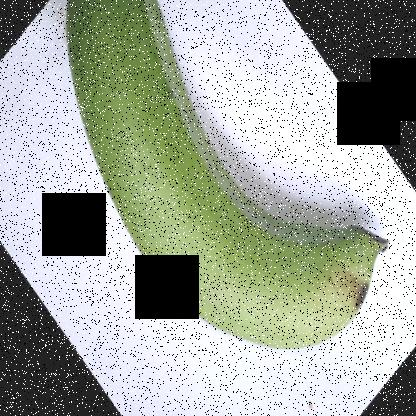freshunripe: (53, 0, 395, 362)
